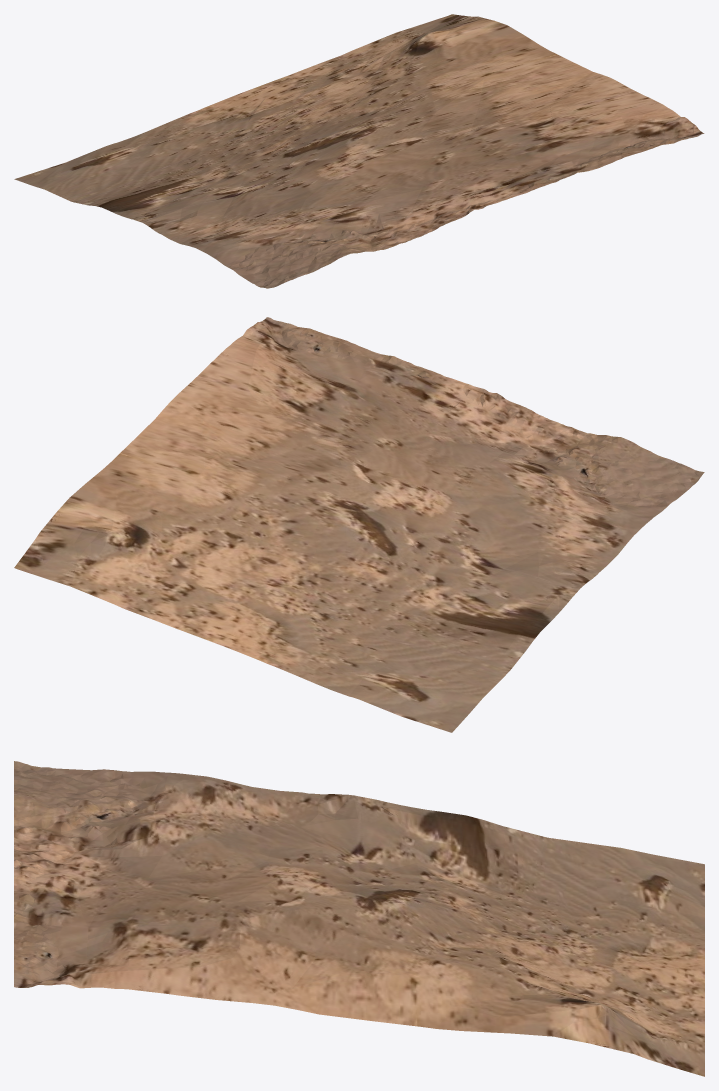
3 renders of one model, top to bottom at view 1: azimuth 30°, elevation 25°; view 2: azimuth 150°, elevation 25°; view 3: azimuth 270°, elevation 25°, orthographic. The views are drawn at different scales.
Size of the model in its own units: 2.09 by 0.5736 by 2.09.
Materials: 2 (2 with a texture image).
